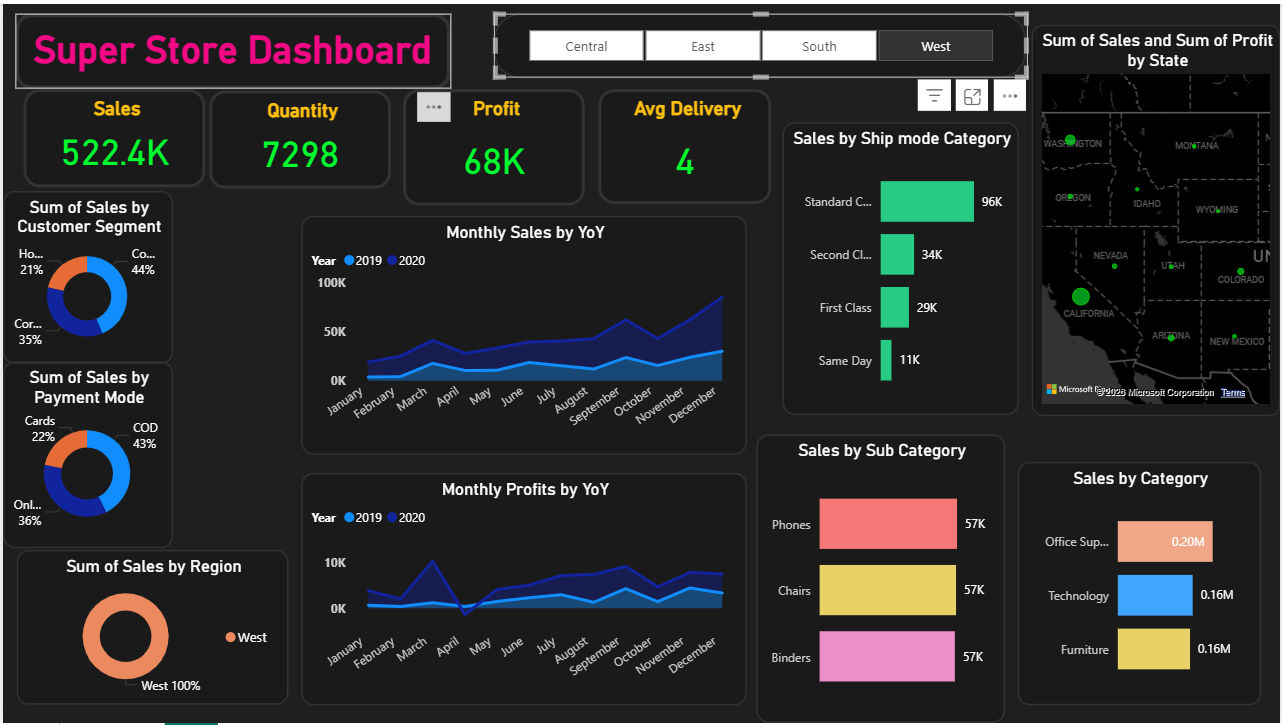

This screenshot's page, from the dashboard's own definition file:
{"tool":"powerbi","page":{"name":"Page 1","canvas":[1280,720],"ordinal":0},"visuals":[{"type":"clusteredBarChart","title":"Sales by Category","fields":{"Category":["SuperStore_Sales_Dataset.Category"],"Y":["Sum(SuperStore_Sales_Dataset.Sales)"]},"box":[1016.7,458.3,243.3,243.3],"z":0},{"type":"clusteredBarChart","title":"Sales by Sub Category","fields":{"Category":["SuperStore_Sales_Dataset.Sub-Category"],"Y":["Sum(SuperStore_Sales_Dataset.Sales)"]},"box":[754.3,431.4,248.6,288.6],"z":1000},{"type":"clusteredBarChart","title":"Sales by Ship mode Category","fields":{"Category":["SuperStore_Sales_Dataset.Ship Mode"],"Y":["Sum(SuperStore_Sales_Dataset.Sales)"]},"box":[780,118.3,236.7,293.3],"z":2000},{"type":"stackedAreaChart","title":"Monthly Sales by YoY","fields":{"Y":["Sum(SuperStore_Sales_Dataset.Sales)"],"Category":["SuperStore_Sales_Dataset.Order Date.Variation.Date Hierarchy.Month","SuperStore_Sales_Dataset.Order Date.Variation.Date Hierarchy.Day"],"Series":["SuperStore_Sales_Dataset.Order Date.Variation.Date Hierarchy.Year"]},"box":[298.3,211.7,475,240],"z":3000},{"type":"stackedAreaChart","title":"Monthly Profits by YoY","fields":{"Category":["SuperStore_Sales_Dataset.Order Date.Variation.Date Hierarchy.Month","SuperStore_Sales_Dataset.Order Date.Variation.Date Hierarchy.Day"],"Series":["SuperStore_Sales_Dataset.Order Date.Variation.Date Hierarchy.Year"],"Y":["Sum(SuperStore_Sales_Dataset.Profit)"]},"box":[298.3,458.3,446.7,233.3],"z":4000},{"type":"map","title":"Sum of Sales and Sum of Profit by State","fields":{"Category":["SuperStore_Sales_Dataset.State"],"Size":["Sum(SuperStore_Sales_Dataset.Sales)"]},"box":[1030,20,250,391.7],"z":5000},{"type":"donutChart","title":"Sum of Sales by Customer Segment","fields":{"Category":["SuperStore_Sales_Dataset.Segment"],"Y":["Sum(SuperStore_Sales_Dataset.Sales)"]},"box":[0,186.7,170,173.3],"z":6000},{"type":"donutChart","title":"Sum of Sales by Payment Mode","fields":{"Category":["SuperStore_Sales_Dataset.Payment Mode"],"Y":["Sum(SuperStore_Sales_Dataset.Sales)"]},"box":[0,358.3,170,186.7],"z":7000},{"type":"slicer","fields":{"Values":["SuperStore_Sales_Dataset.Region"]},"box":[491.7,10,533.3,65],"z":8000},{"type":"textbox","box":[12.9,10,435.7,75.7],"z":9000},{"type":"card","title":"Sales","fields":{"Values":["Sum(SuperStore_Sales_Dataset.Sales)"]},"box":[20,85,181.7,98.3],"z":10000},{"type":"card","title":"Quantity","fields":{"Values":["Sum(SuperStore_Sales_Dataset.Quantity)"]},"box":[206.7,86.7,181.7,98.3],"z":11000},{"type":"card","title":"Profit","fields":{"Values":["Sum(SuperStore_Sales_Dataset.Profit)"]},"box":[400,85,181.7,116.7],"z":12000},{"type":"card","title":"Avg Delivery","fields":{"Values":["Avg(SuperStore_Sales_Dataset.AverageDelivery)"]},"box":[596.7,85,173.3,115],"z":13000},{"type":"donutChart","fields":{"Category":["SuperStore_Sales_Dataset.Region"],"Y":["Sum(SuperStore_Sales_Dataset.Sales)"]},"box":[13.3,546.7,271.7,155],"z":14000}]}

Visuals, with their boxes in screenshot pixels (x1, y1, x2, y2), scaled from the page's 1280x720 canvas onto the 1282x725 screenshot:
"Sales by Category" clusteredBarChart: [1018, 461, 1262, 706]
"Sales by Sub Category" clusteredBarChart: [755, 434, 1004, 724]
"Sales by Ship mode Category" clusteredBarChart: [781, 119, 1018, 414]
"Monthly Sales by YoY" stackedAreaChart: [299, 213, 775, 455]
"Monthly Profits by YoY" stackedAreaChart: [299, 461, 746, 696]
"Sum of Sales and Sum of Profit by State" map: [1032, 20, 1281, 415]
"Sum of Sales by Customer Segment" donutChart: [0, 188, 170, 362]
"Sum of Sales by Payment Mode" donutChart: [0, 361, 170, 549]
slicer - SuperStore_Sales_Dataset.Region: [492, 10, 1027, 76]
textbox: [13, 10, 449, 86]
"Sales" card: [20, 86, 202, 185]
"Quantity" card: [207, 87, 389, 186]
"Profit" card: [401, 86, 583, 203]
"Avg Delivery" card: [598, 86, 771, 201]
donutChart - SuperStore_Sales_Dataset.Region x Sum(SuperStore_Sales_Dataset.Sales): [13, 550, 285, 707]
